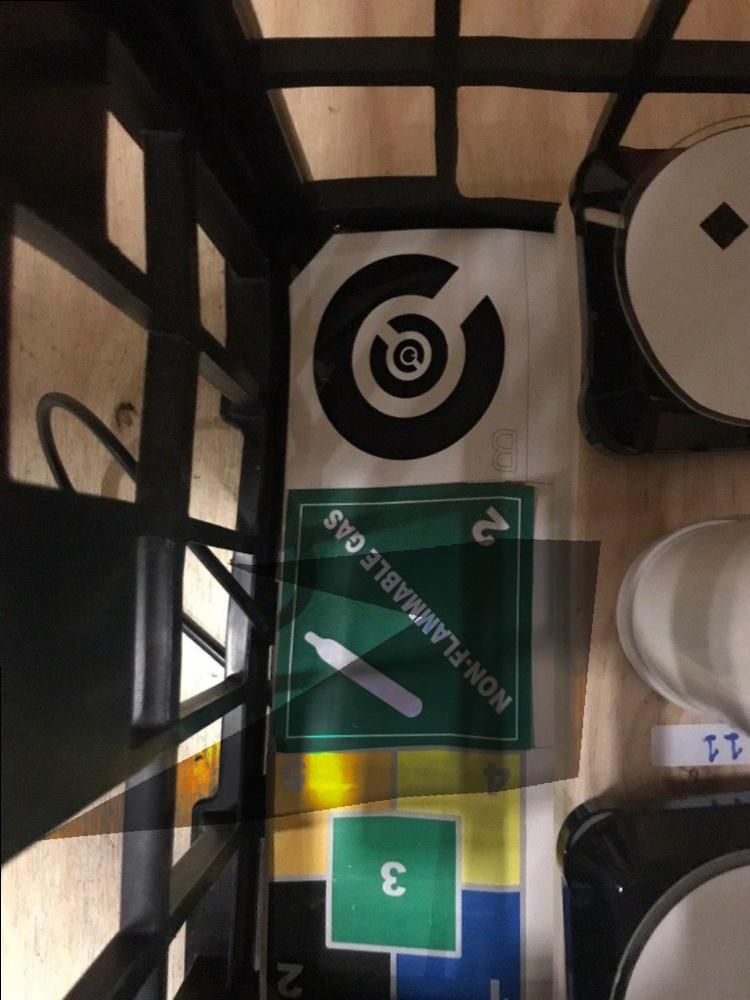non-flammable-gas: (277, 486, 533, 749)
